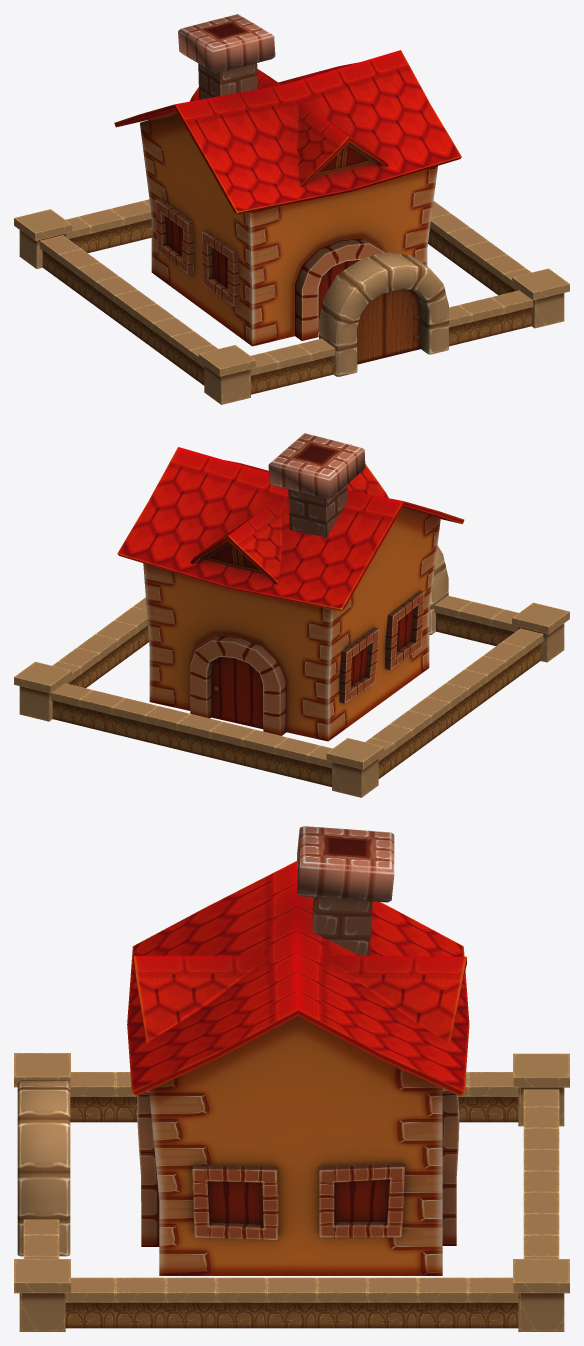
File: House2.FBX
The picture shows the model from 3 angles, top to bottom: view 1: azimuth 30°, elevation 25°; view 2: azimuth 150°, elevation 25°; view 3: azimuth 270°, elevation 25°; orthographic projection. The views are drawn at different scales.
Visible parts, largest first — view 1: House2, Group002; view 2: House2, Group002; view 3: House2, Group002.
Boxes of the visible parts, x1,y1,x2,y2 form: House2: (114, 14, 461, 346); Group002: (14, 199, 569, 404); House2: (117, 433, 464, 741); Group002: (14, 545, 569, 797); House2: (127, 826, 469, 1275); Group002: (14, 1053, 569, 1331).
Size of the model in its own units: 268 by 188 by 274.
